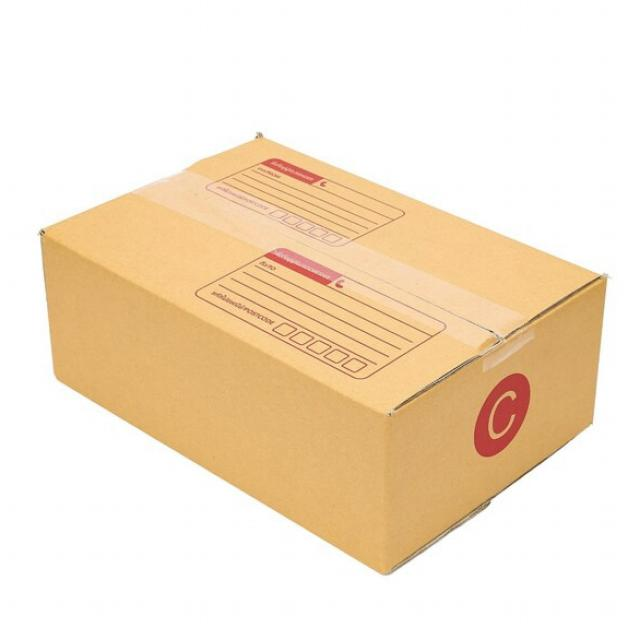box: (24, 115, 631, 576)
